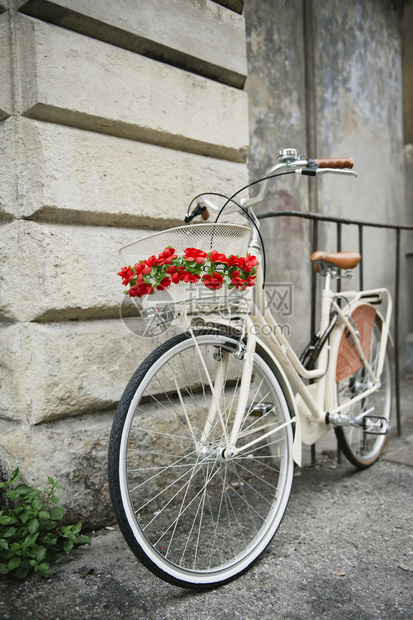MNV: (109, 156, 394, 590)
